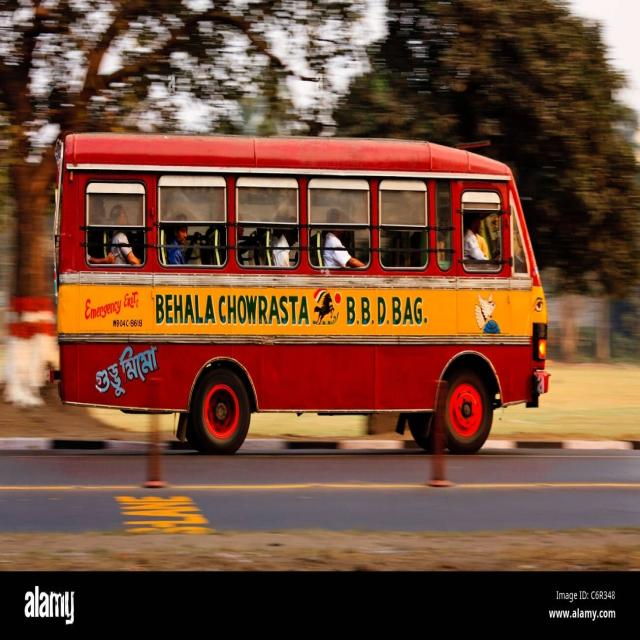bus: (55, 133, 549, 453)
